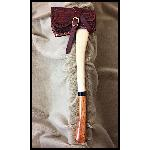Kapak: (47, 3, 105, 145)
